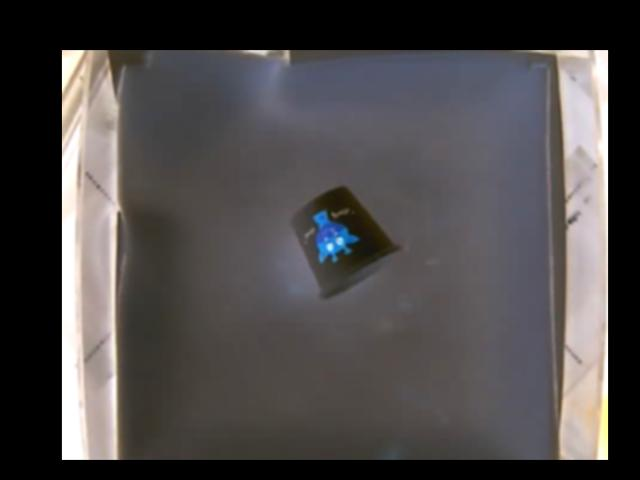Cup: (288, 185, 401, 297)
